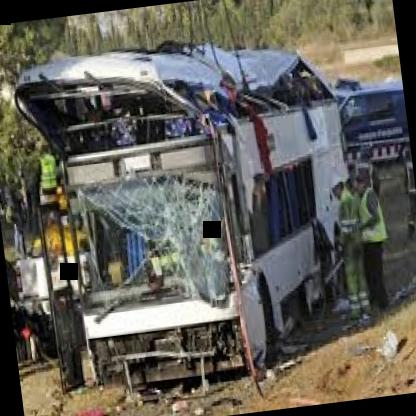accident: (3, 10, 381, 416)
